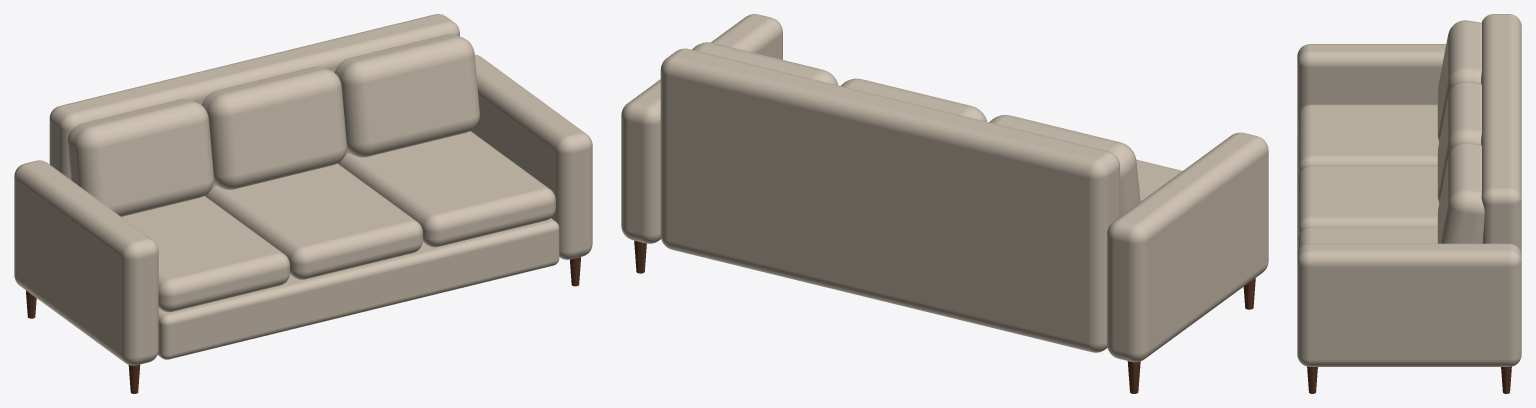
Rendered from sofa.glb.
3 renders of one model, left to right at view 1: azimuth 30°, elevation 25°; view 2: azimuth 150°, elevation 25°; view 3: azimuth 270°, elevation 25°, orthographic. The views are drawn at different scales.
Visible parts, largest first — view 1: Fabric, Wood; view 2: Fabric, Wood; view 3: Fabric, Wood.
Part boxes in pixels (left/top/right/bottom): Fabric: left=14, top=14, right=592, bottom=365; Wood: left=26, top=257, right=580, bottom=393; Fabric: left=621, top=14, right=1268, bottom=362; Wood: left=634, top=240, right=1255, bottom=393; Fabric: left=1297, top=14, right=1521, bottom=366; Wood: left=1307, top=366, right=1511, bottom=393.
Size of the model in its own units: 2 by 0.82 by 0.88.
2 materials, 1 textured.
